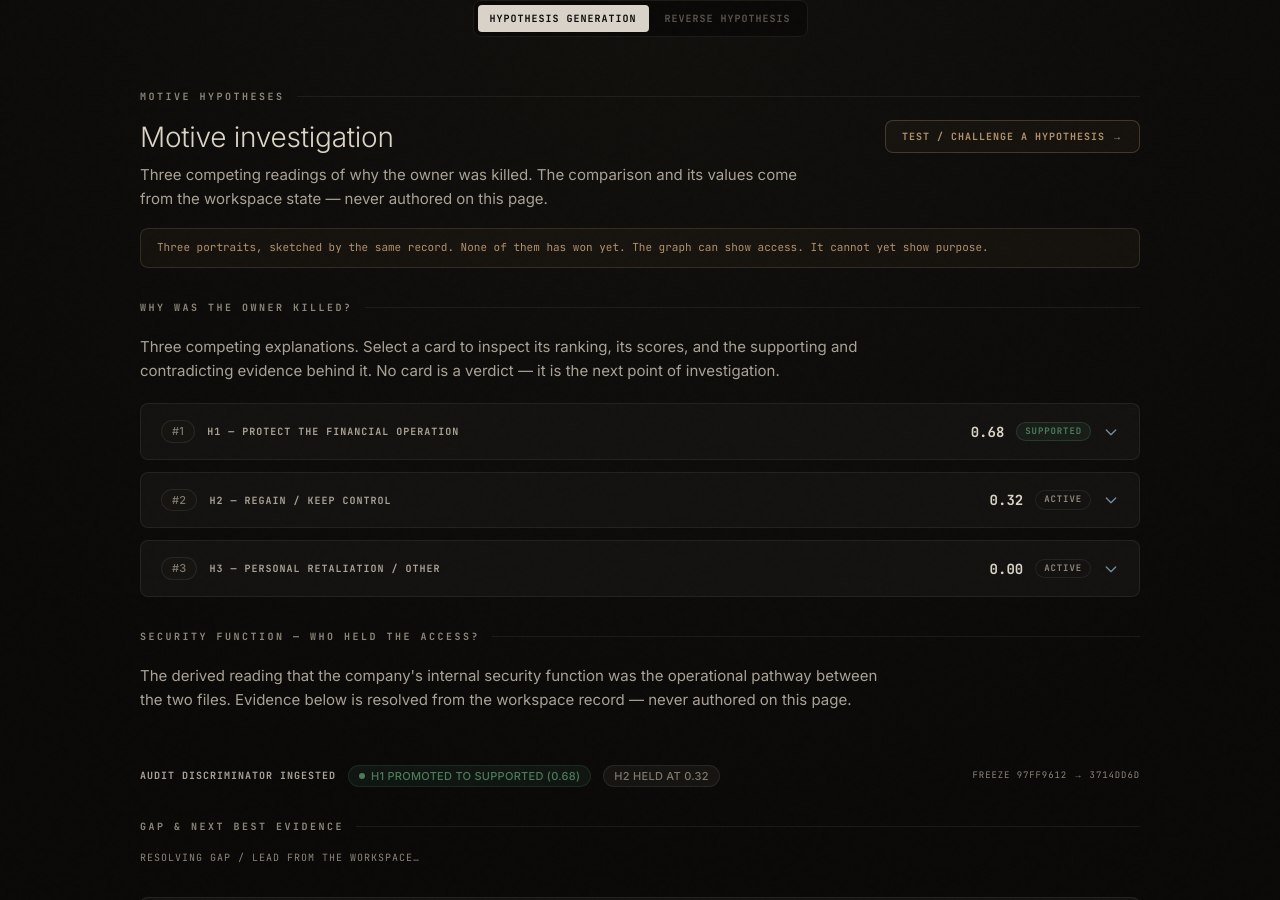
Scenario: PASS 4 — Case-B hypothesis route: real Phase-2 hypotheses as cards › the reverse hypothesis tab still works on the Case-B route
Step 1. Click the tab with test id "hypothesis-mode-reverse" → point(728, 18), box [652,5,802,32]
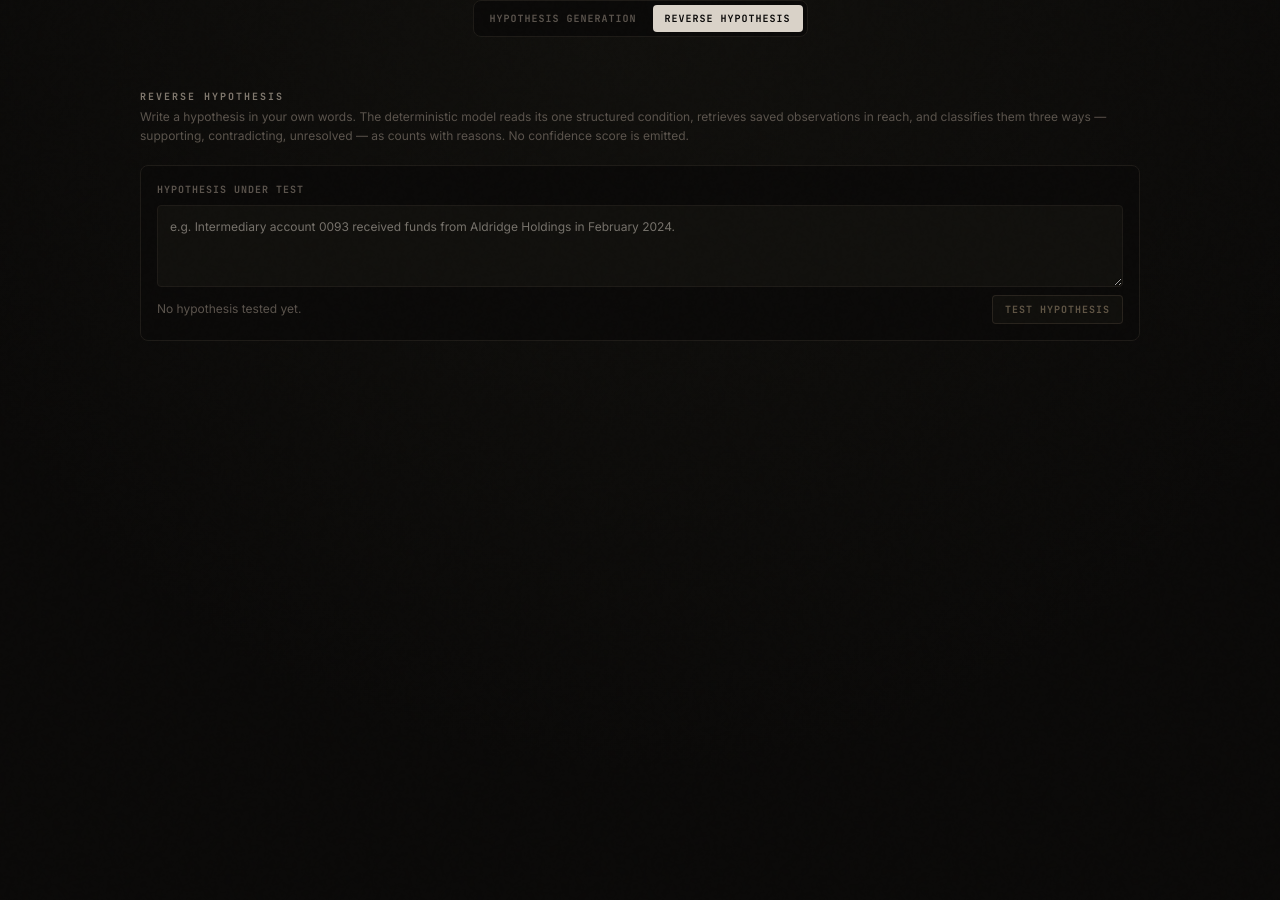
Now the element with test id "reverse-hypothesis-engine" is shown, box [100,57,1180,405]
